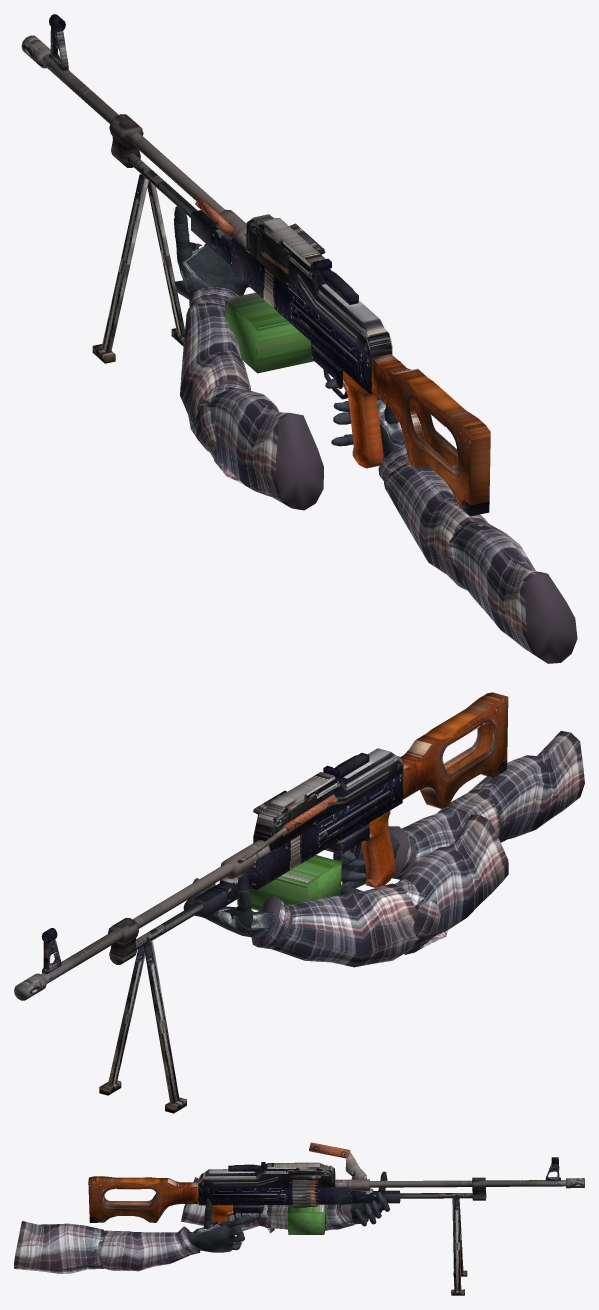
File: pkm_vfire.fbx
The picture shows the model from 3 angles, top to bottom: view 1: azimuth 30°, elevation 25°; view 2: azimuth 150°, elevation 25°; view 3: azimuth 270°, elevation 25°; orthographic projection. The views are drawn at different scales.
Parts seen in each view (by area): view 1: pkm, larm, rupperarm, rforearm, lhand; view 2: pkm, larm, rupperarm, rforearm, lhand; view 3: pkm, rupperarm, rforearm, larm, rhand, lhand.
Boxes of the visible parts, bbox=[...] form: pkm: bbox=[21, 14, 490, 516]; larm: bbox=[180, 286, 323, 510]; rupperarm: bbox=[449, 521, 577, 663]; rforearm: bbox=[378, 445, 489, 590]; lhand: bbox=[173, 205, 249, 299]; pkm: bbox=[14, 692, 508, 1113]; larm: bbox=[251, 814, 508, 967]; rupperarm: bbox=[469, 731, 584, 842]; rforearm: bbox=[388, 789, 504, 879]; lhand: bbox=[183, 876, 274, 939]; pkm: bbox=[88, 1142, 584, 1295]; rupperarm: bbox=[14, 1221, 103, 1273]; rforearm: bbox=[96, 1226, 200, 1271]; larm: bbox=[181, 1177, 360, 1233]; rhand: bbox=[186, 1222, 234, 1252]; lhand: bbox=[346, 1171, 389, 1226].
Size of the model in its own units: 11.39 by 15.36 by 61.14.
3 materials, 3 textured.
